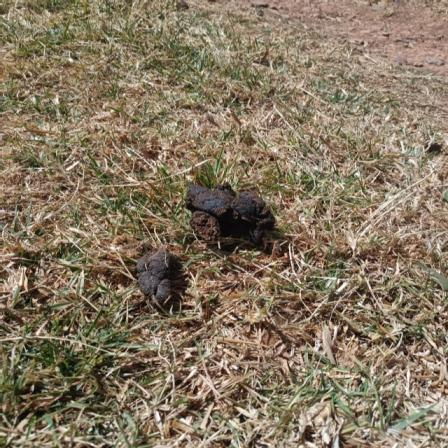dog-poop: (182, 181, 284, 248), (129, 238, 188, 308)
